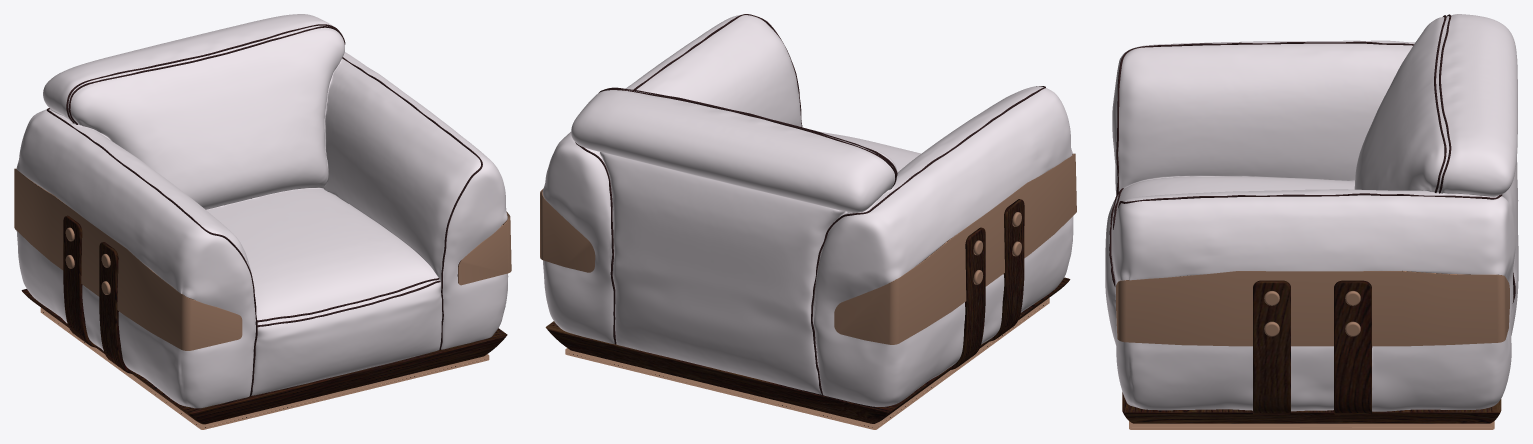
Rendered from St_Hilker_Dusseldorf_1_Seater.glb.
3 renders of one model, left to right at view 1: azimuth 30°, elevation 25°; view 2: azimuth 150°, elevation 25°; view 3: azimuth 270°, elevation 25°, orthographic. The views are drawn at different scales.
Parts seen in each view (by area): view 1: Dusseldorf_Sofa_1STR; view 2: Dusseldorf_Sofa_1STR; view 3: Dusseldorf_Sofa_1STR.
Part boxes in pixels (bbox=[...]): Dusseldorf_Sofa_1STR: bbox=[14, 14, 511, 429]; Dusseldorf_Sofa_1STR: bbox=[540, 14, 1076, 429]; Dusseldorf_Sofa_1STR: bbox=[1105, 14, 1518, 429].
Size of the model in its own units: 1.26 by 0.8375 by 1.13.
Materials: 4 (1 with a texture image).
